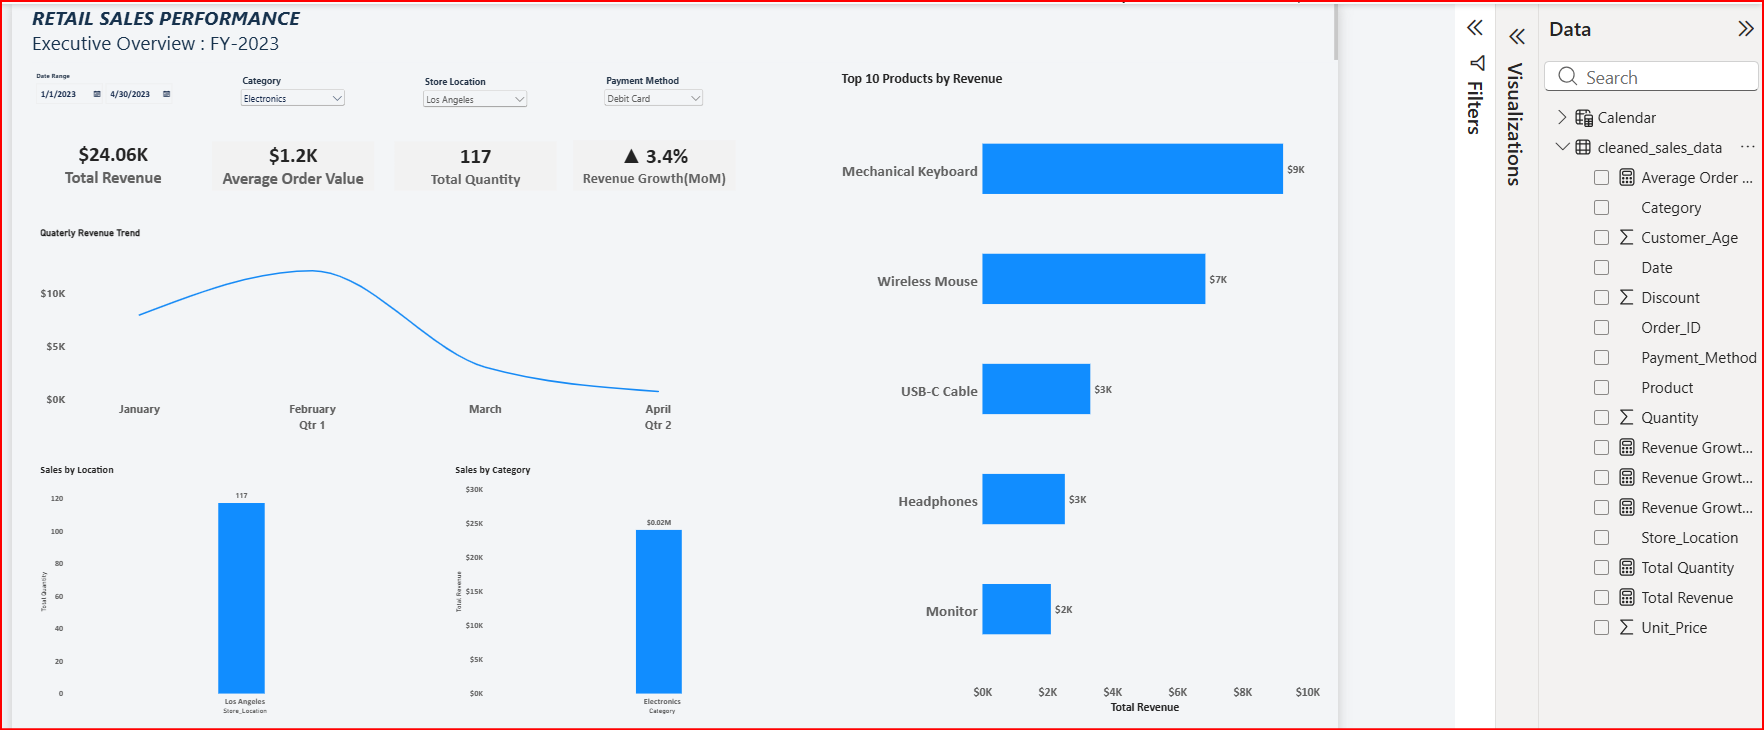

What the dashboard file says about the page in this screenshot:
{"tool":"powerbi","page":{"name":"Page 1","canvas":[2560,1440],"ordinal":0},"visuals":[{"type":"cardVisual","fields":{"Data":["cleaned_sales_data.Total Quantity"]},"box":[738.6,266.6,313,95.4],"z":0},{"type":"cardVisual","fields":{"Data":["cleaned_sales_data.Average Order Value"]},"box":[386.4,266.6,313,95.4],"z":1000},{"type":"cardVisual","fields":{"Data":["cleaned_sales_data.Total Revenue"]},"box":[38.6,222,313.7,178.6],"z":2000},{"type":"textbox","box":[39.1,0,2521.5,112.5],"z":3000},{"type":"clusteredColumnChart","title":"Sales by Location","fields":{"Category":["cleaned_sales_data.Store_Location"],"Y":["cleaned_sales_data.Total Quantity"]},"box":[39.1,870.7,767.9,516],"z":4000},{"type":"clusteredColumnChart","title":"Sales by Category","fields":{"Category":["cleaned_sales_data.Category"],"Y":["cleaned_sales_data.Total Revenue"]},"box":[838.9,870.7,767.9,516],"z":5000},{"type":"slicer","fields":{"Values":["Calendar.Date"]},"box":[39.1,129.6,313,105.2],"z":6000},{"type":"clusteredBarChart","title":"Top 10 Products by Revenue","fields":{"Category":["cleaned_sales_data.Product"],"Y":["cleaned_sales_data.Total Revenue"]},"box":[1636.1,112.5,904.9,1274.2],"z":7000},{"type":"lineChart","title":"Quarterly Revenue Trend","fields":{"Y":["cleaned_sales_data.Total Revenue"],"Category":["Calendar.Date.Variation.Date Hierarchy.Quarter"]},"box":[38.6,417.4,1358.5,434.3],"z":8000},{"type":"slicer","fields":{"Values":["cleaned_sales_data.Category"]},"box":[437.8,134.5,210.3,88],"z":9000},{"type":"slicer","fields":{"Values":["cleaned_sales_data.Store_Location"]},"box":[789.9,137,210.3,85.6],"z":10000},{"type":"slicer","fields":{"Values":["cleaned_sales_data.Payment_Method"]},"box":[1139.7,134.5,200.5,83.2],"z":11000},{"type":"cardVisual","fields":{"Data":["cleaned_sales_data.Revenue Growth MoM Display"]},"box":[1083.4,263,313.7,96.5],"z":12000}]}

Visuals, with their boxes on the page's 2560x1440 design canvas (x1, y1, x2, y2). These are canvas units, not pixel positions in the 1764x730 screenshot, which may show the page scaled, cropped or inside an application window:
cardVisual - cleaned_sales_data.Total Quantity: (left=739, top=267, right=1052, bottom=362)
cardVisual - cleaned_sales_data.Average Order Value: (left=386, top=267, right=699, bottom=362)
cardVisual - cleaned_sales_data.Total Revenue: (left=39, top=222, right=352, bottom=401)
textbox: (left=39, top=0, right=2561, bottom=112)
"Sales by Location" clusteredColumnChart: (left=39, top=871, right=807, bottom=1387)
"Sales by Category" clusteredColumnChart: (left=839, top=871, right=1607, bottom=1387)
slicer - Calendar.Date: (left=39, top=130, right=352, bottom=235)
"Top 10 Products by Revenue" clusteredBarChart: (left=1636, top=112, right=2541, bottom=1387)
"Quarterly Revenue Trend" lineChart: (left=39, top=417, right=1397, bottom=852)
slicer - cleaned_sales_data.Category: (left=438, top=134, right=648, bottom=222)
slicer - cleaned_sales_data.Store_Location: (left=790, top=137, right=1000, bottom=223)
slicer - cleaned_sales_data.Payment_Method: (left=1140, top=134, right=1340, bottom=218)
cardVisual - cleaned_sales_data.Revenue Growth MoM Display: (left=1083, top=263, right=1397, bottom=360)
